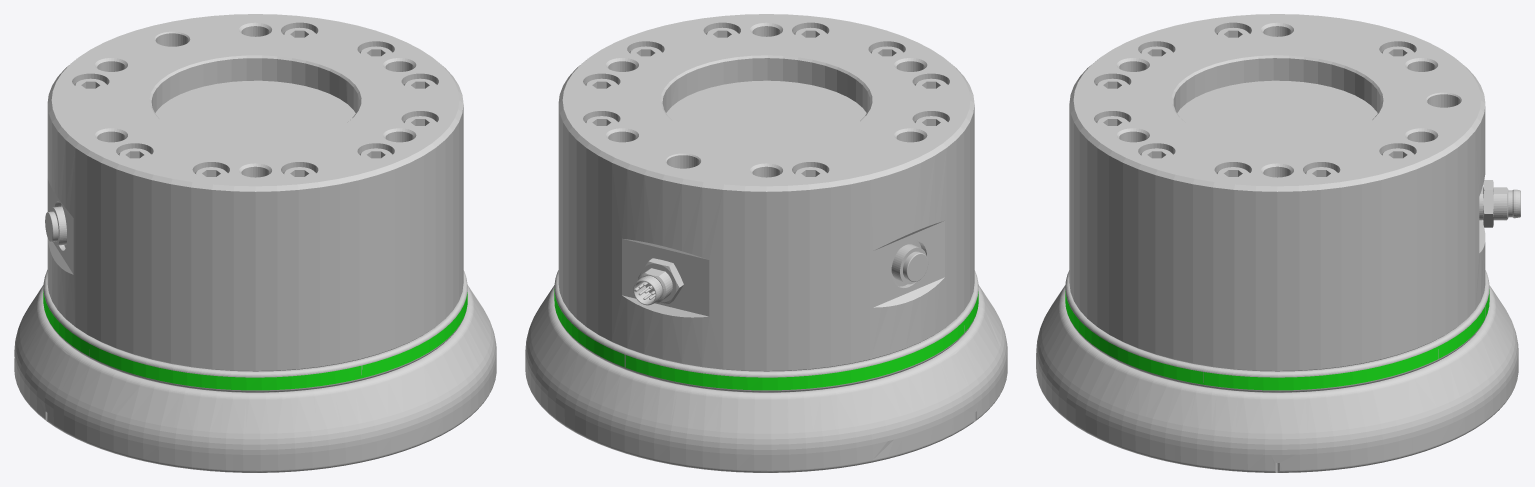
File: symphony40_6_w.dae
The picture shows the model from 3 angles, left to right: view 1: azimuth 30°, elevation 25°; view 2: azimuth 150°, elevation 25°; view 3: azimuth 270°, elevation 25°; orthographic projection.
Visible parts, largest first — view 1: link6; view 2: link6; view 3: link6.
Part boxes in pixels (bbox=[...]): link6: bbox=[14, 14, 496, 472]; link6: bbox=[525, 14, 1007, 472]; link6: bbox=[1036, 14, 1520, 472].
Size of the model in its own units: 0.116 by 0.1165 by 0.0722.
